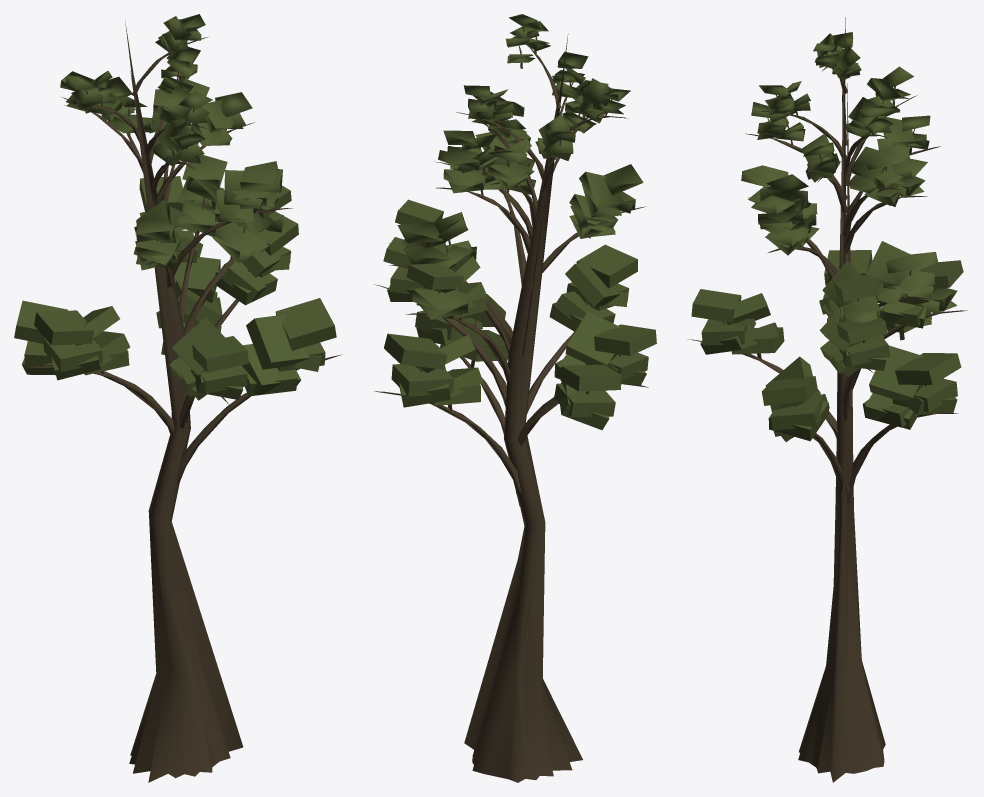
Rendered from Tree_BaldCypress_007.fbx.
3 views of the same model, side by side, from view 1: azimuth 30°, elevation 25°; view 2: azimuth 150°, elevation 25°; view 3: azimuth 270°, elevation 25° (orthographic). The views are drawn at different scales.
Visible parts, largest first — view 1: Tree_BaldCypress.007; view 2: Tree_BaldCypress.007; view 3: Tree_BaldCypress.007.
Boxes of the visible parts, x1,y1,x2,y2 form: Tree_BaldCypress.007: [14, 14, 341, 782]; Tree_BaldCypress.007: [374, 14, 656, 782]; Tree_BaldCypress.007: [687, 17, 967, 782].
Bounding box in the file's own units: 1150 × 2965 × 1066.
